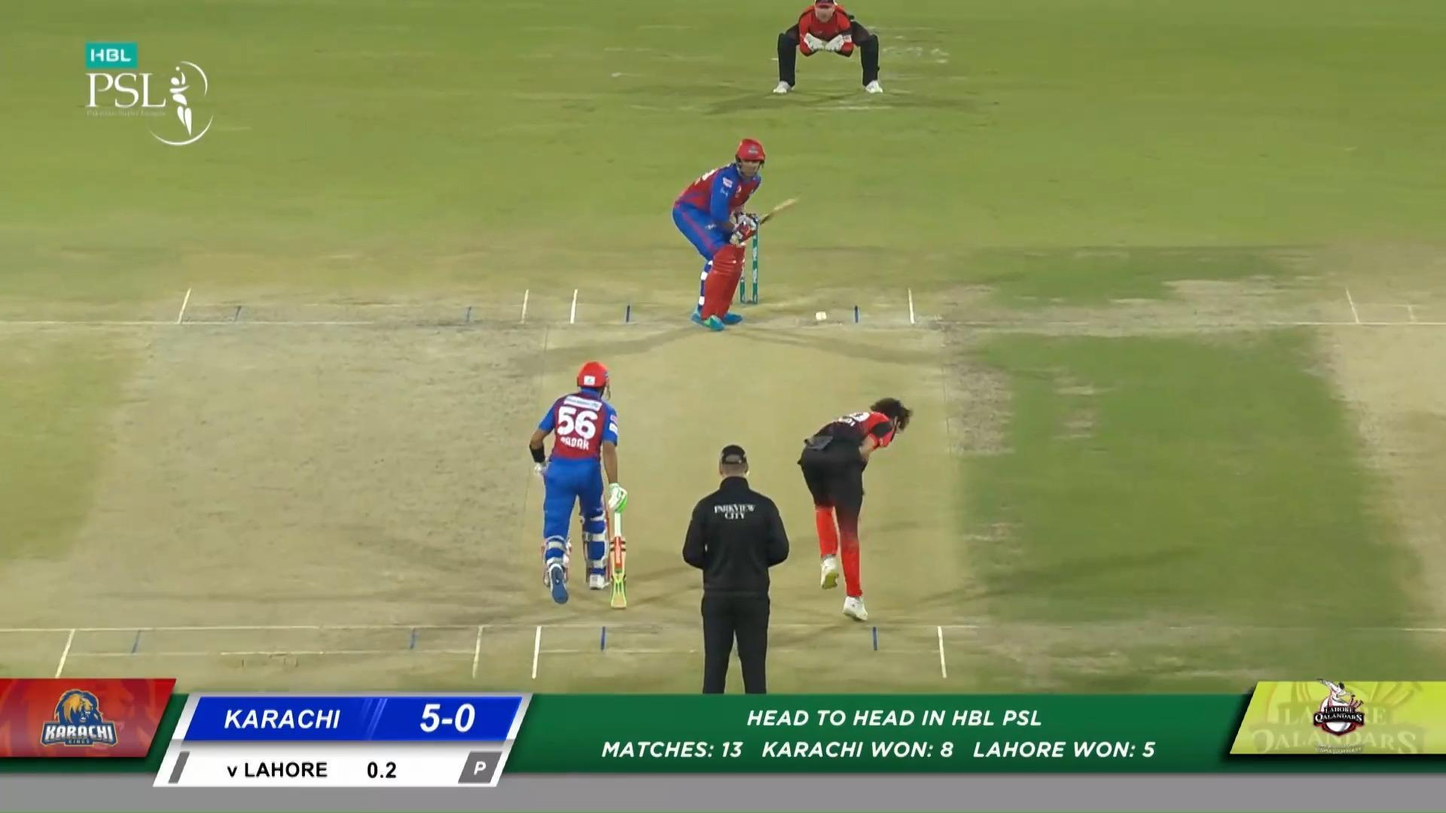BM 1: (673, 137, 801, 332)
BO: (796, 395, 915, 623)
